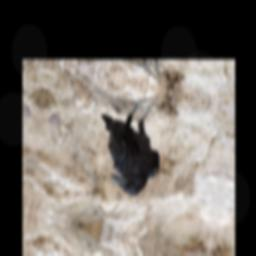Crow: (89, 88, 171, 202)
